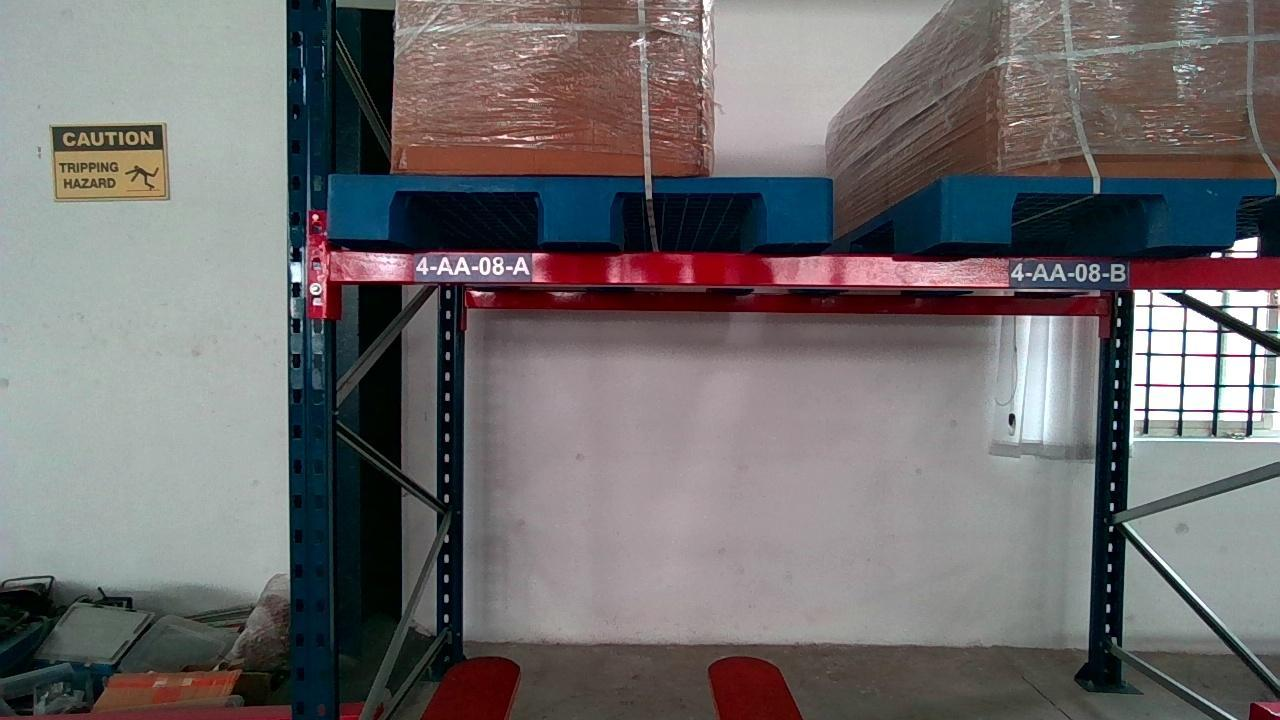h_rack: (322, 254, 1280, 290)
small_pallet: (329, 173, 835, 244), (946, 175, 1280, 254)
